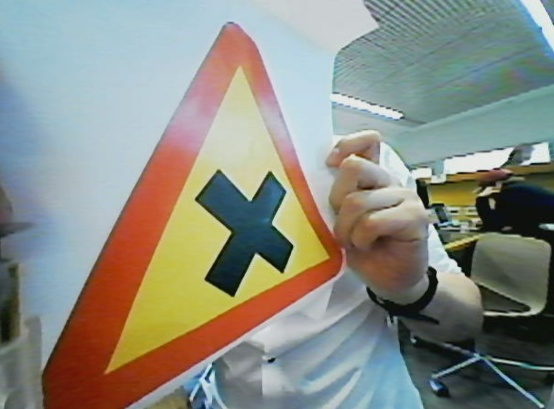junction: (41, 17, 336, 409)
